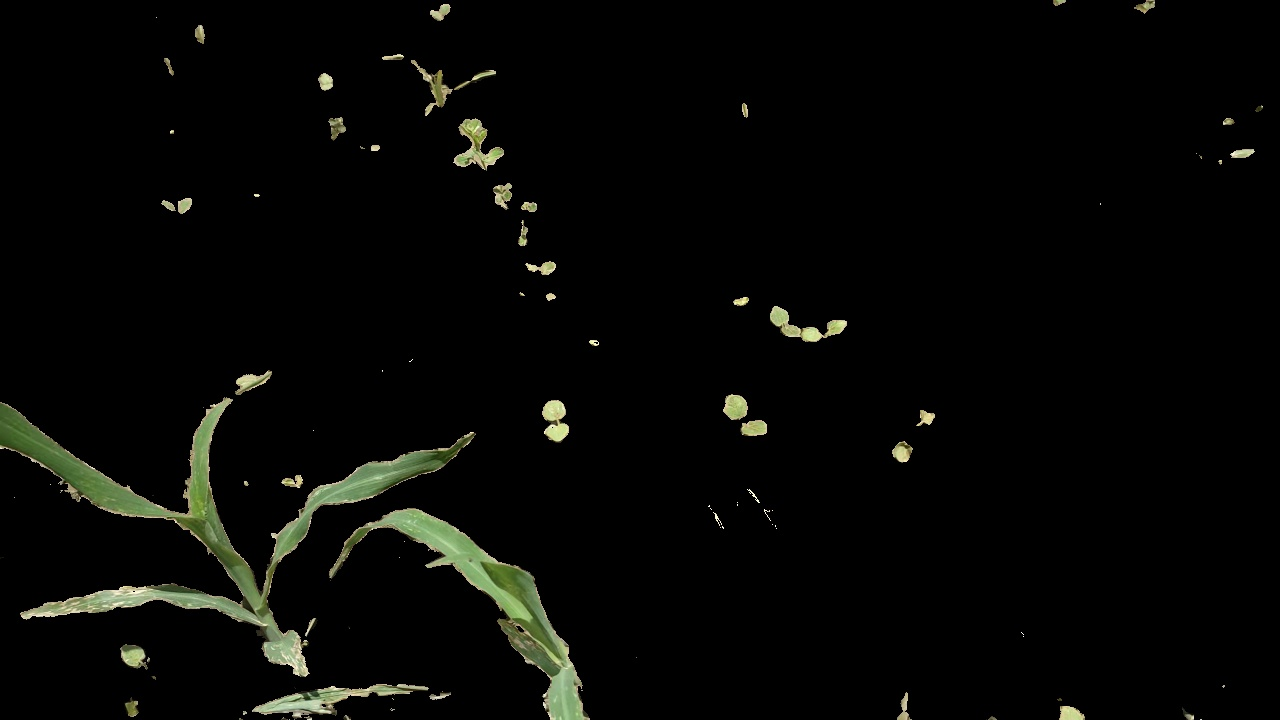crop: (3, 361, 328, 675), (335, 485, 632, 720)
weed: (878, 404, 945, 472), (768, 298, 846, 354), (443, 114, 509, 171), (715, 388, 775, 448), (163, 192, 203, 224), (545, 399, 572, 445), (513, 258, 571, 275)
